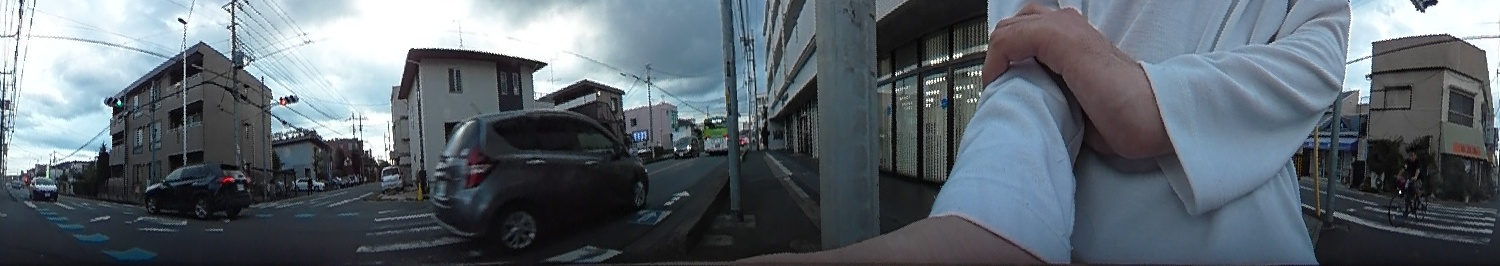difficult_person: (306, 173, 314, 196)
person: (1399, 148, 1424, 205)
